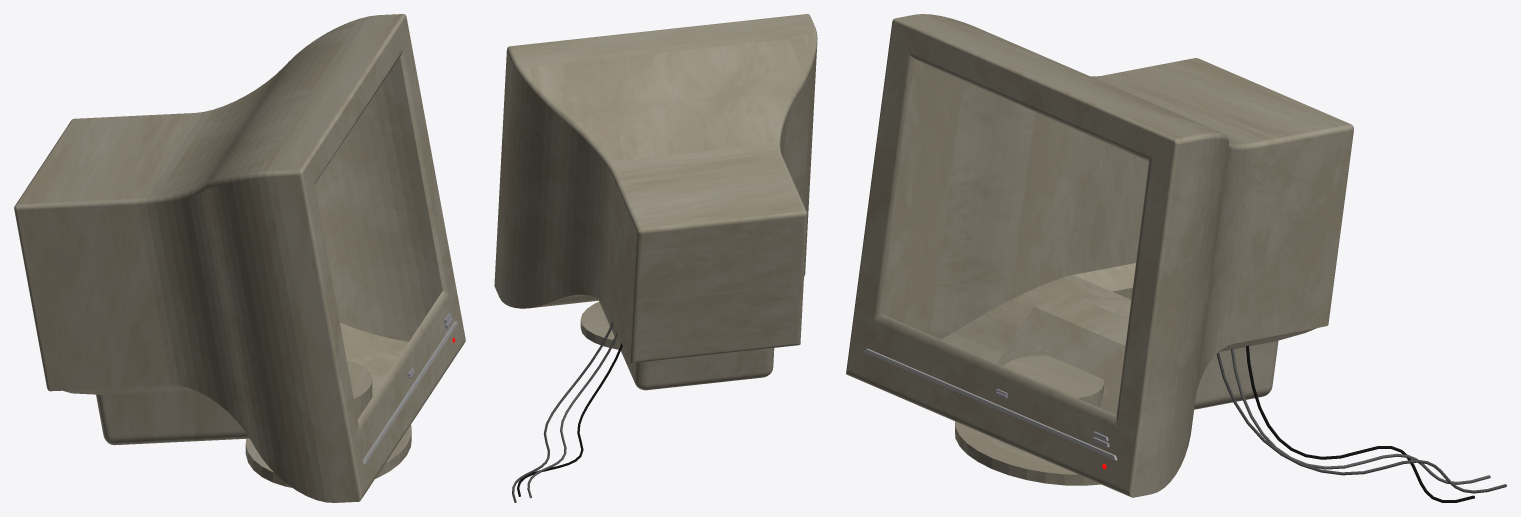
Rendered from monitor.glb.
3 views of the same model, side by side, from view 1: azimuth 30°, elevation 25°; view 2: azimuth 150°, elevation 25°; view 3: azimuth 270°, elevation 25° (orthographic). The views are drawn at different scales.
Parts seen in each view (by area): view 1: Cube.009_Material.066_0, Cube.009_Material.069_0; view 2: Cube.009_Material.066_0, BezierCurve.007, BezierCurve.006, BezierCurve.003; view 3: Cube.009_Material.066_0, Cube.009_Material.069_0, BezierCurve.007, BezierCurve.003, BezierCurve.006.
Boxes of the visible parts, left/top/right/bottom form: Cube.009_Material.066_0: left=14, top=14, right=465, bottom=502; Cube.009_Material.069_0: left=363, top=321, right=458, bottom=463; Cube.009_Material.066_0: left=494, top=14, right=817, bottom=390; BezierCurve.007: left=512, top=322, right=613, bottom=502; BezierCurve.006: left=527, top=332, right=617, bottom=498; BezierCurve.003: left=517, top=343, right=622, bottom=496; Cube.009_Material.066_0: left=846, top=14, right=1353, bottom=497; Cube.009_Material.069_0: left=863, top=348, right=1117, bottom=460; BezierCurve.007: left=1216, top=352, right=1506, bottom=493; BezierCurve.003: left=1246, top=345, right=1474, bottom=502; BezierCurve.006: left=1231, top=348, right=1490, bottom=484.
Bounding box in the file's own units: 2.19 × 2.09 × 2.85.
7 materials, 1 textured.
